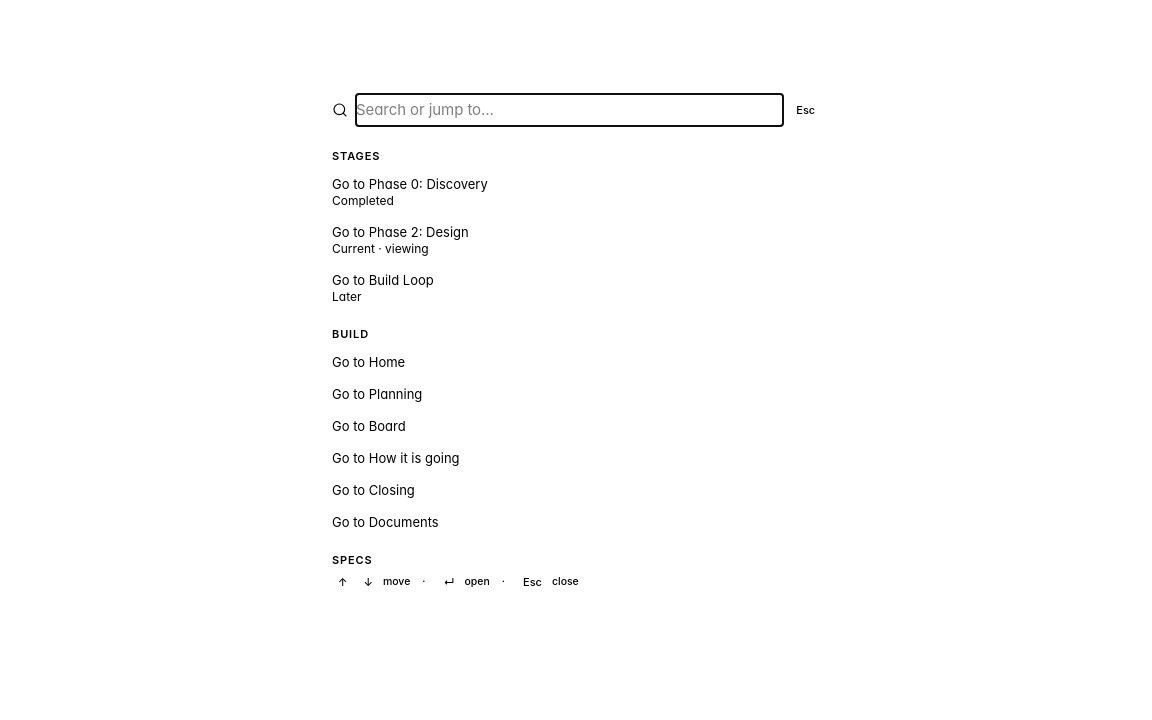
it: the omnibar on cmdk › an incomplete phrase offers the nearest template; choosing it fills the query and keeps the palette open, running nothing (Q4 P4 seam)
Type "defer 0002" into the dropdown. click: (570, 110)
box: [356, 94, 783, 126]
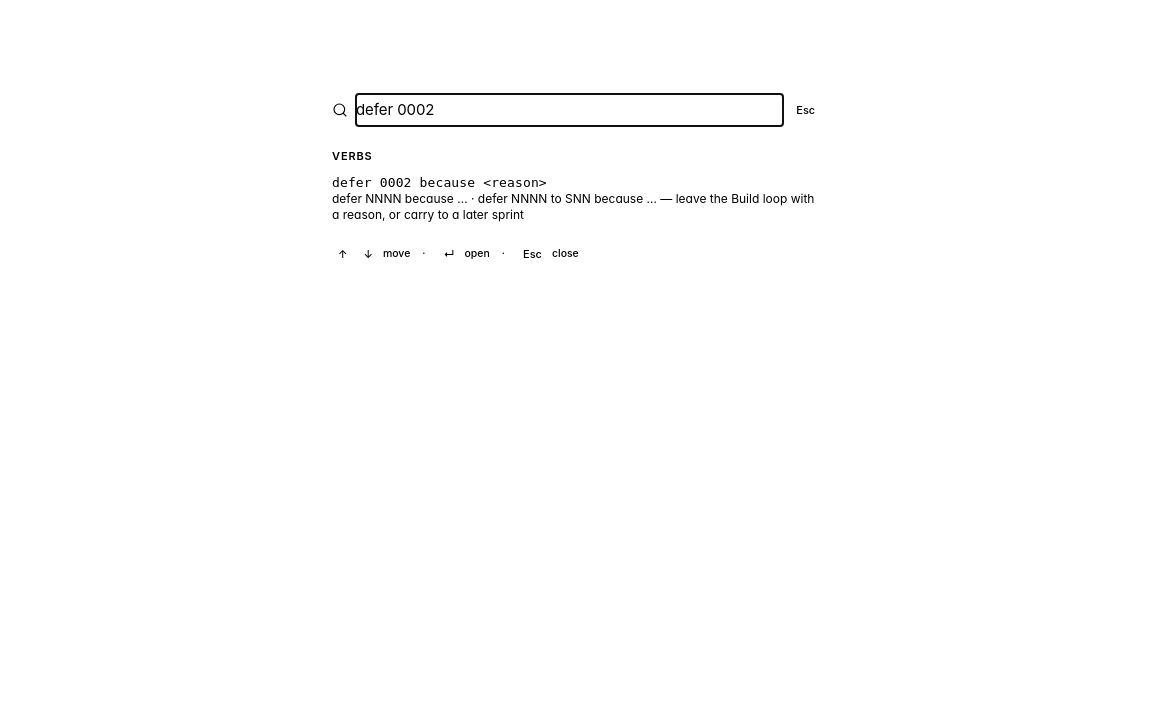
Press Enter in the dropdown, box [356, 94, 783, 126]
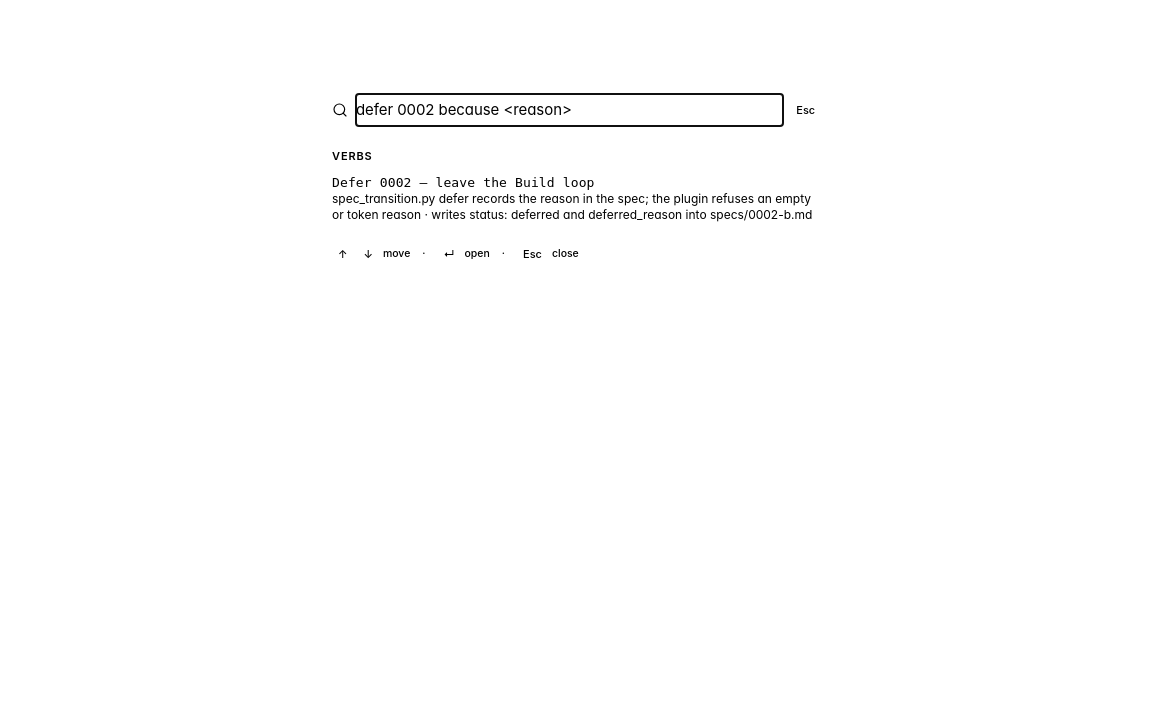
Check: the dropdown holds "defer 0002 because <reason>", box [356, 94, 783, 126]
